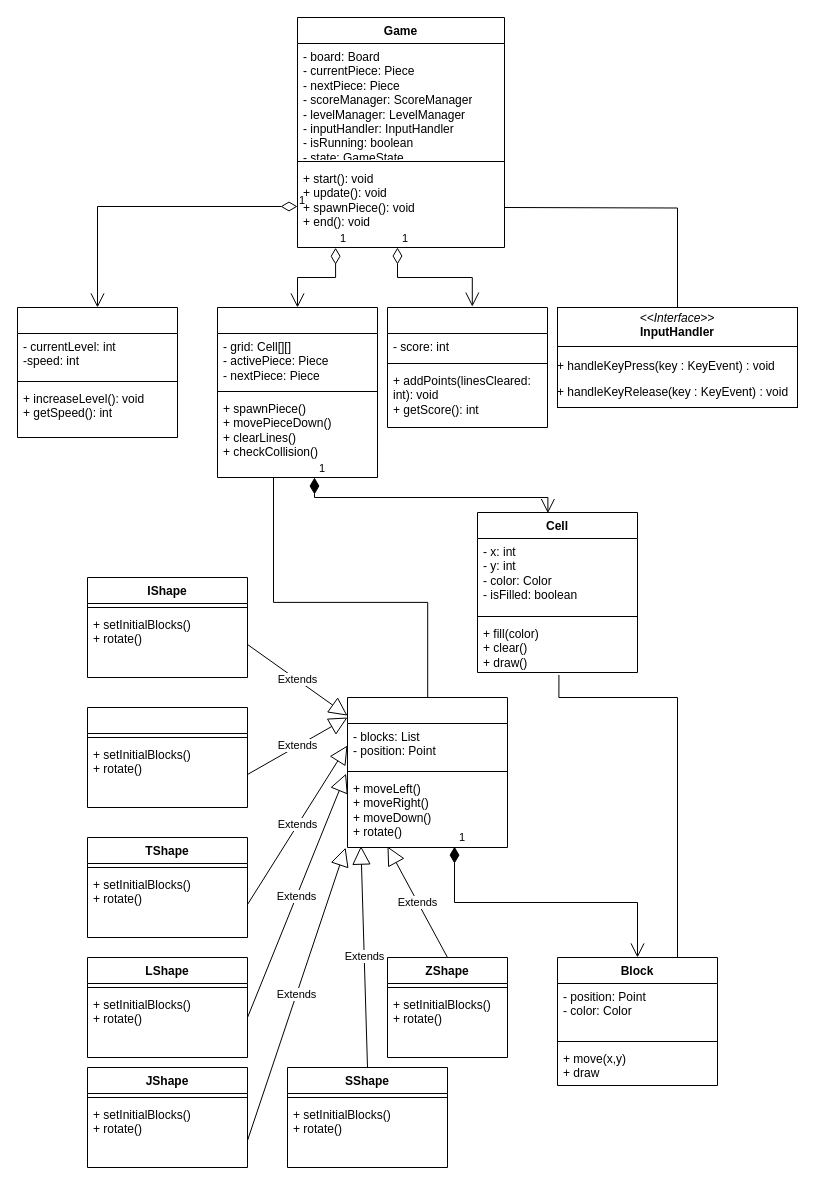
The diagram is 815 pixels wide and 1188 high, and some of its shapes have lost their labels. The shapes that lost their labels are listed below. From the top down, each one's box as (x1, y1, x2, y2) in pixels, then its label:
(16, 306, 178, 438): LevelManager
(386, 306, 548, 428): ScoreManager
(216, 306, 378, 478): Board
(86, 706, 248, 808): Shape
(346, 696, 508, 848): Piece (abstract)
